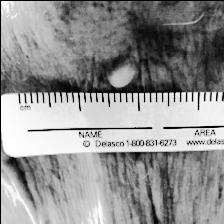Unclassified: (27, 38, 146, 88)
